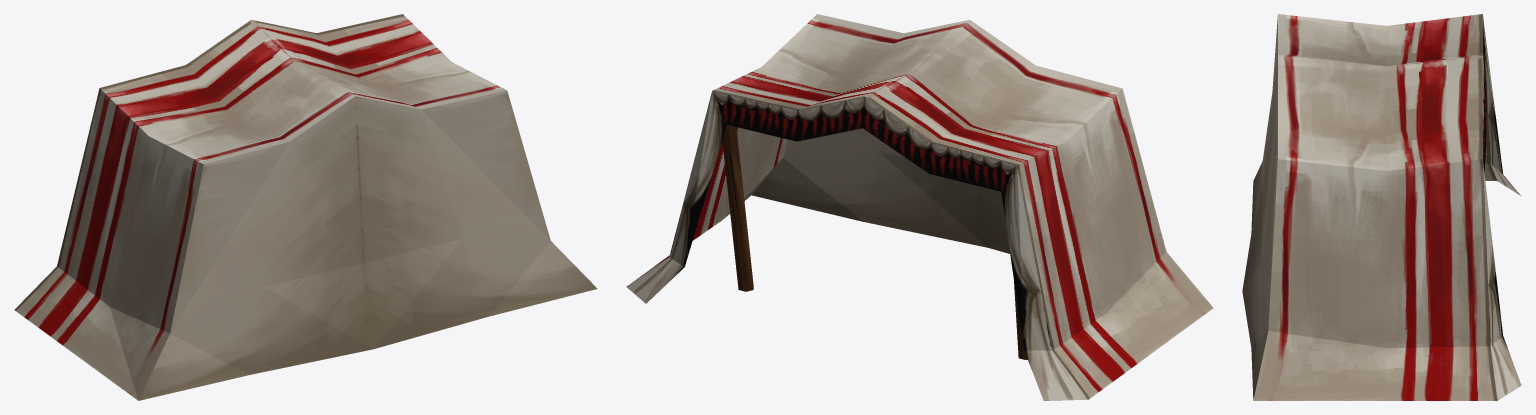
File: building_Settlement.FBX
The picture shows the model from 3 angles, left to right: view 1: azimuth 30°, elevation 25°; view 2: azimuth 150°, elevation 25°; view 3: azimuth 270°, elevation 25°; orthographic projection. The views are drawn at different scales.
Visible parts, largest first — view 1: env_house_Tent1; view 2: env_house_Tent1; view 3: env_house_Tent1.
Boxes of the visible parts, box(x1,y1,x2,y2) form: env_house_Tent1: box(14, 14, 597, 400); env_house_Tent1: box(626, 14, 1213, 400); env_house_Tent1: box(1242, 14, 1521, 400).
Size of the model in its own units: 47.22 by 25.34 by 23.57.
Materials: 1 (1 with a texture image).
